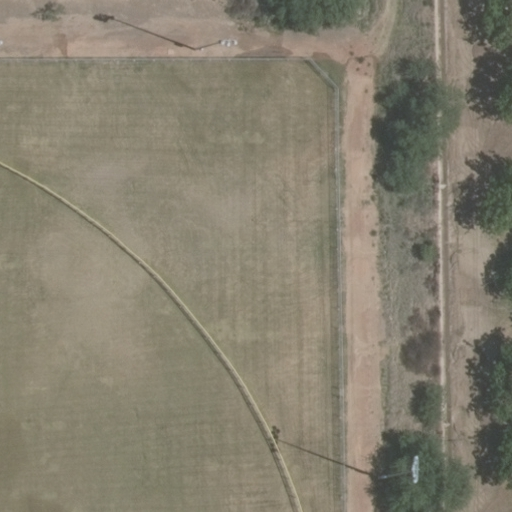DT: (380, 452, 425, 476), (205, 28, 243, 52)
